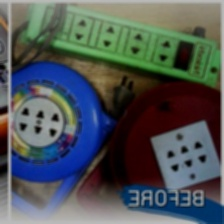three_eye_plug: (23, 0, 224, 88), (119, 95, 223, 211), (7, 59, 102, 179)
